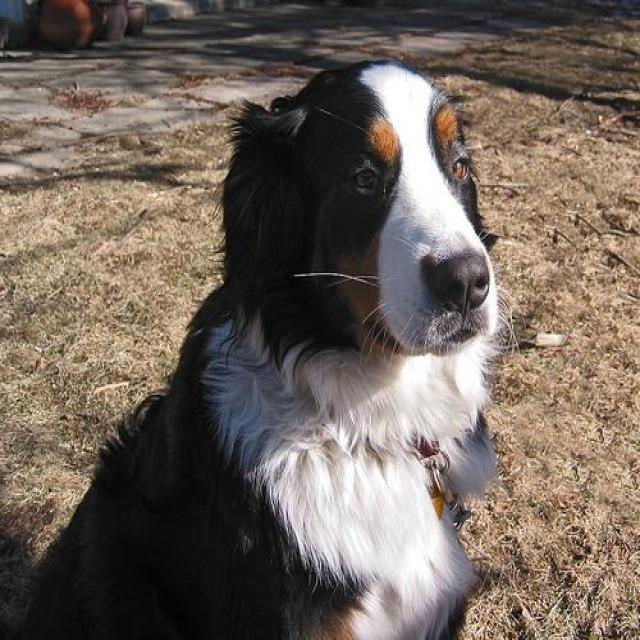adult_dog: (8, 62, 508, 640)
